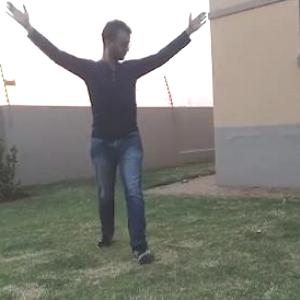takeoff: (1, 0, 225, 268)
